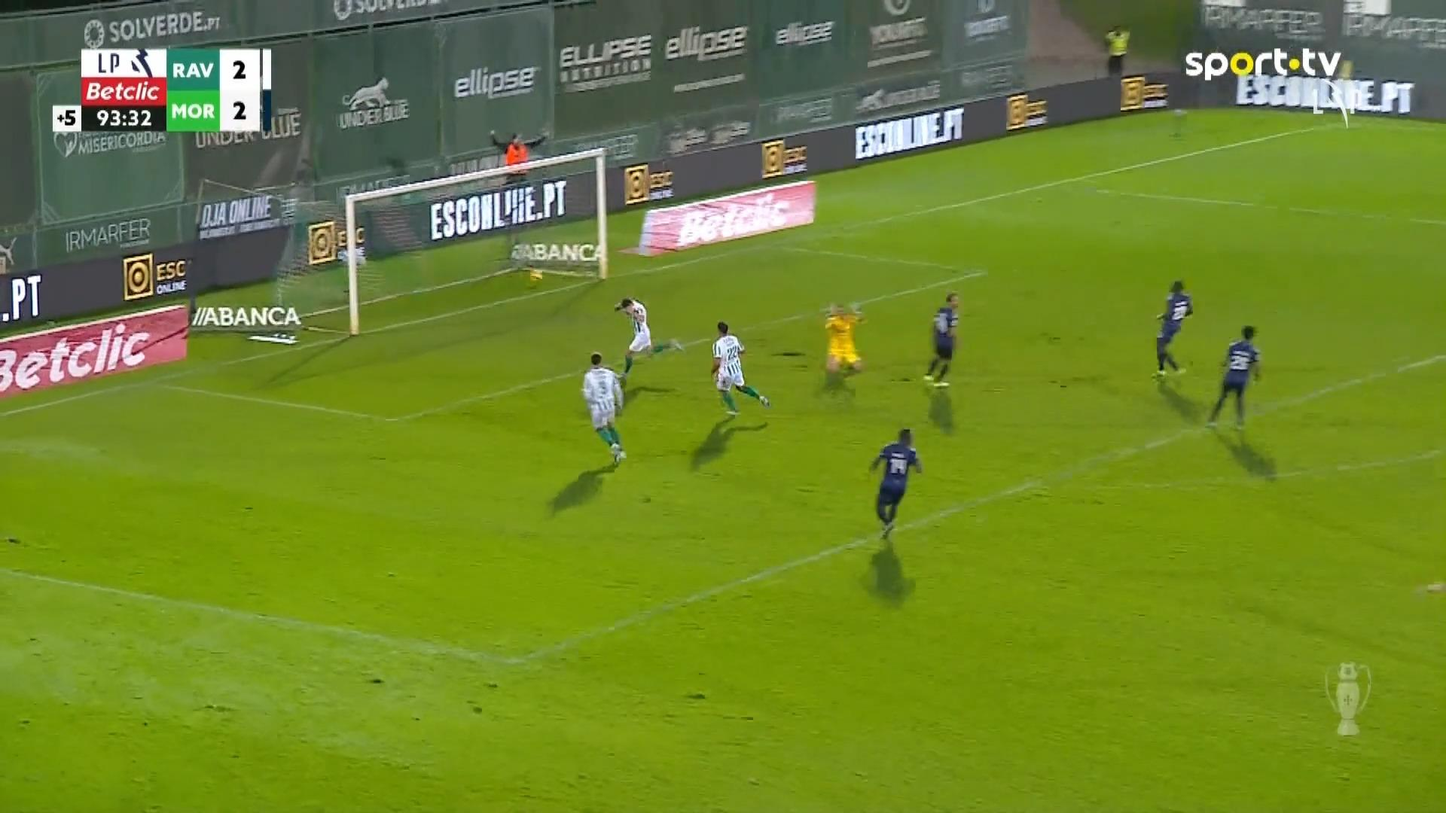ball: (530, 268, 543, 281)
goalkeeper: (819, 300, 866, 397)
player: (612, 297, 682, 388), (867, 427, 922, 540), (1204, 324, 1261, 431), (709, 320, 770, 416), (580, 352, 627, 467), (1150, 279, 1193, 379), (923, 291, 959, 388)
